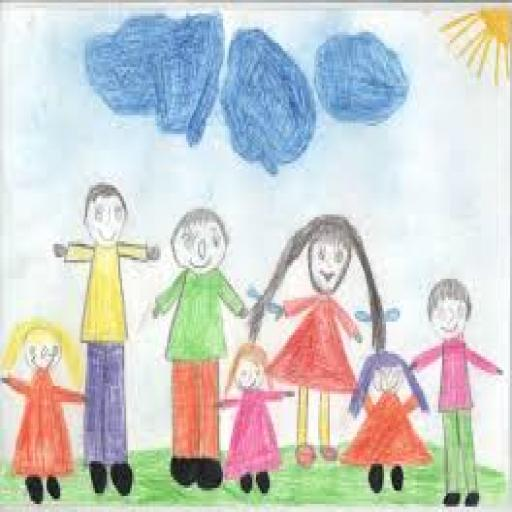objects: (160, 171, 164, 172)
person: (245, 204, 393, 470), (52, 173, 164, 498), (147, 204, 249, 497), (408, 271, 504, 509), (3, 309, 88, 508), (335, 347, 433, 496), (210, 340, 297, 499)
